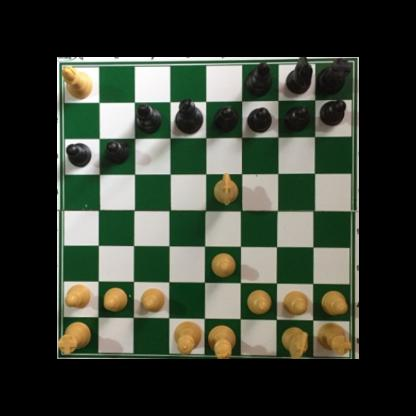black-bishop: (244, 58, 270, 97), (134, 103, 164, 135)
black-king: (173, 96, 204, 137)
black-knight: (286, 58, 313, 98)
black-pawn: (211, 106, 239, 135), (64, 140, 92, 167), (284, 105, 310, 133), (319, 100, 347, 126), (247, 107, 273, 134), (104, 140, 130, 164)
black-rook: (314, 58, 351, 97)
white-bishop: (60, 66, 95, 100)
white-king: (206, 323, 236, 359)
white-knight: (279, 323, 310, 359), (212, 172, 239, 207)
white-pawn: (318, 289, 349, 317), (138, 286, 166, 314), (246, 289, 273, 316), (63, 285, 92, 310), (103, 286, 129, 313), (211, 252, 236, 280), (282, 290, 308, 316)
white-queen: (171, 320, 201, 355)
white-rook: (314, 320, 351, 355), (58, 318, 92, 356)
